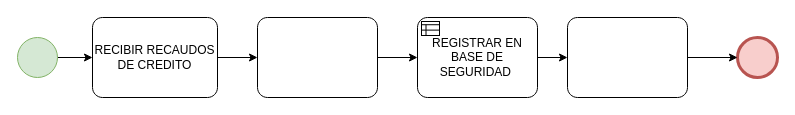
Image size: 795x115. Some labels were removed from this diagram. The shapes that lost their labels are listed below. From the top down, each one's centre as x and y in pixels, then its label:
the point at 317,57: ANALIZAR RECAUDOS
the point at 627,57: DEVOLVER RESPUESTA POR CORREO
